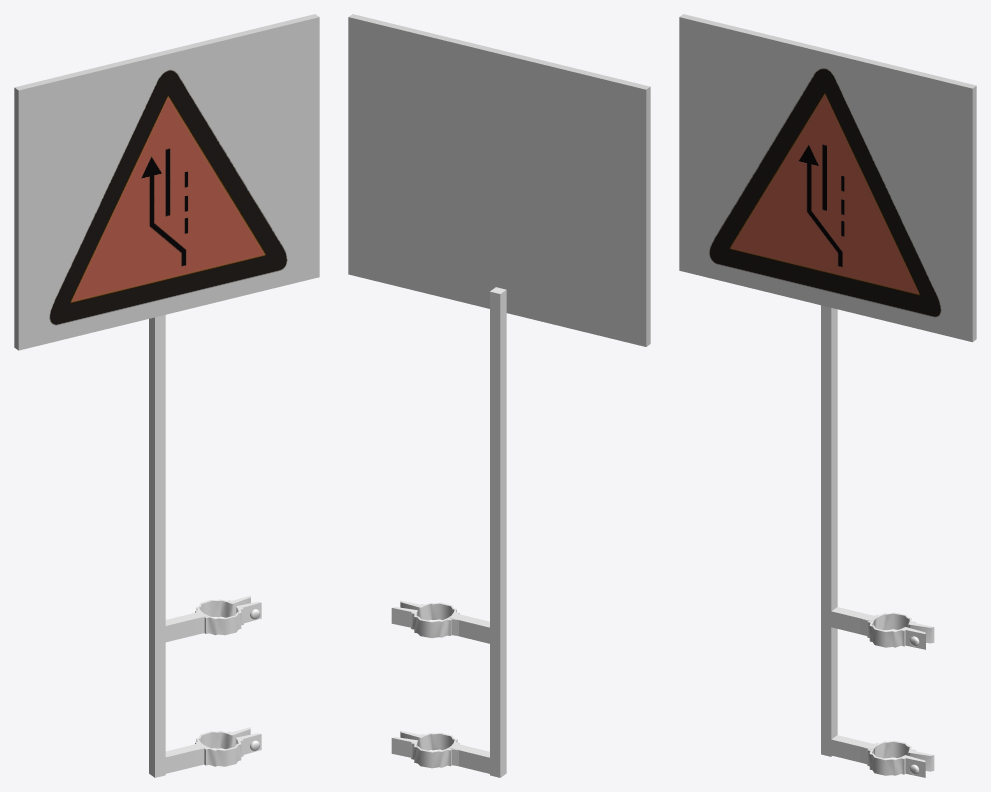
Rendered from 变换车道-S.glb.
The picture shows the model from 3 angles, left to right: view 1: azimuth 30°, elevation 25°; view 2: azimuth 150°, elevation 25°; view 3: azimuth 330°, elevation 25°; orthographic projection. The views are drawn at different scales.
Visible parts, largest first — view 1: 立方体.1-材质.4, 立方体, 立方体.1-材质.2, pCube31, pCube20, 立方体.1, 立方体.2; view 2: 立方体.1-材质.2, 立方体, pCube20, pCube31, 立方体.2, 立方体.1; view 3: 立方体.1-材质.4, 立方体, 立方体.1-材质.2, pCube31, pCube20, 立方体.2, 立方体.1.
Boxes of the visible parts, x1,y1,x2,y2 form: 立方体.1-材质.4: (18, 17, 319, 350); 立方体: (149, 315, 165, 777); 立方体.1-材质.2: (14, 14, 318, 350); pCube31: (194, 595, 261, 635); pCube20: (194, 727, 261, 766); 立方体.1: (165, 611, 206, 642); 立方体.2: (165, 743, 206, 773); 立方体.1-材质.2: (348, 14, 650, 346); 立方体: (490, 287, 506, 777); pCube20: (391, 730, 459, 768); pCube31: (391, 600, 459, 638); 立方体.2: (449, 743, 491, 774); 立方体.1: (449, 613, 491, 644); 立方体.1-材质.4: (679, 17, 972, 342); 立方体: (821, 305, 837, 756); 立方体.1-材质.2: (679, 14, 976, 341); pCube31: (860, 612, 934, 649); pCube20: (860, 740, 934, 777); 立方体.2: (831, 735, 877, 762); 立方体.1: (831, 607, 877, 634).
Bounding box in the file's own units: 7.01 × 16.13 × 0.9508.
Materials: 4 (1 with a texture image).
